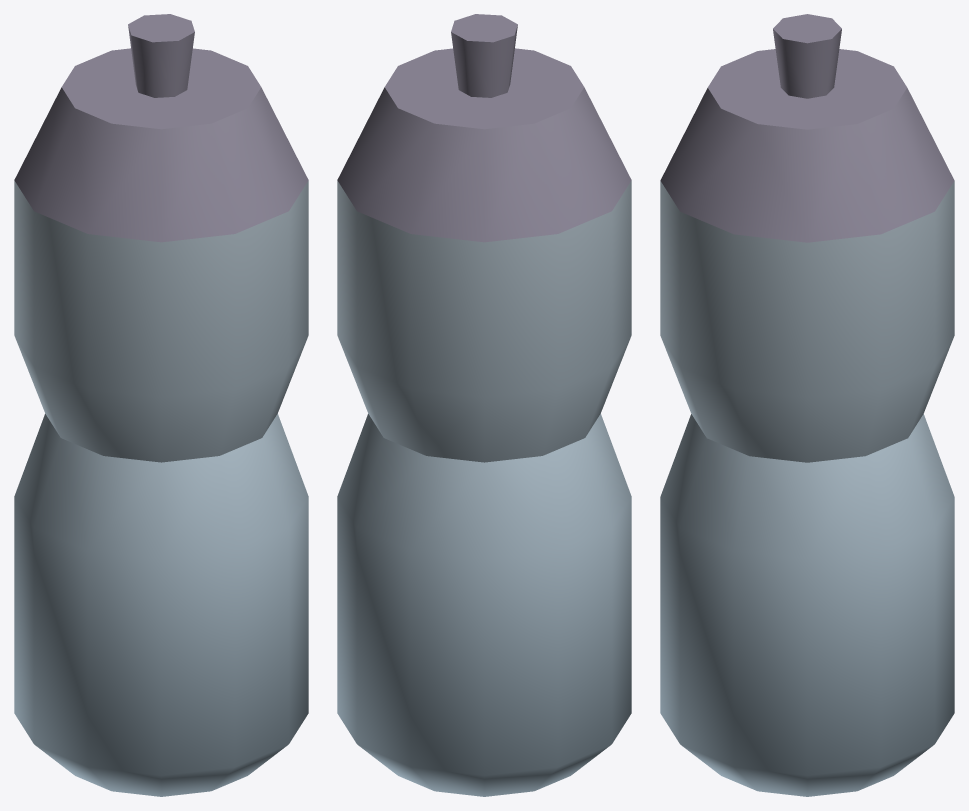
The model's file is bidon.glb.
3 renders of one model, left to right at view 1: azimuth 30°, elevation 25°; view 2: azimuth 150°, elevation 25°; view 3: azimuth 270°, elevation 25°, orthographic.
Parts seen in each view (by area): view 1: bidon; view 2: bidon; view 3: bidon.
Part boxes in pixels (x1,y1,x2,y2): bidon: (14, 14, 308, 796); bidon: (337, 14, 631, 796); bidon: (660, 14, 954, 796).
Size of the model in its own units: 0.1283 by 0.3494 by 0.1283.
